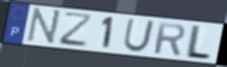1: (99, 16, 116, 50)
L: (182, 24, 214, 62)
N: (25, 7, 63, 47)
R: (153, 21, 187, 57)
U: (122, 18, 157, 54)
Z: (58, 11, 94, 49)
